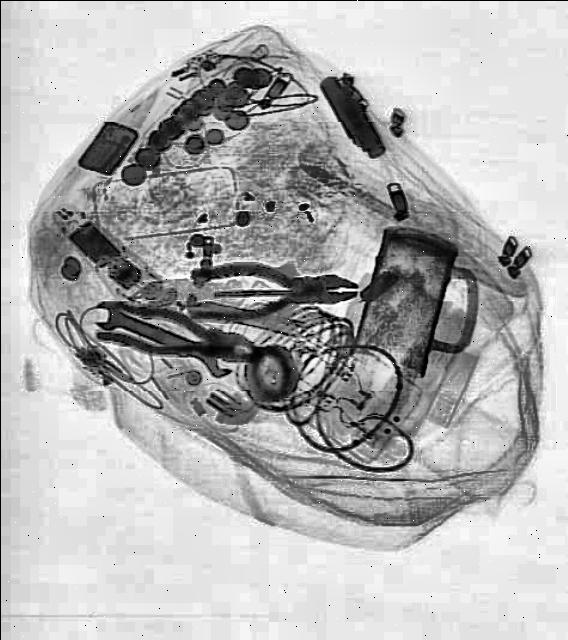Pliers: (93, 298, 254, 377), (185, 263, 357, 323)
Wrench: (90, 303, 235, 383)
